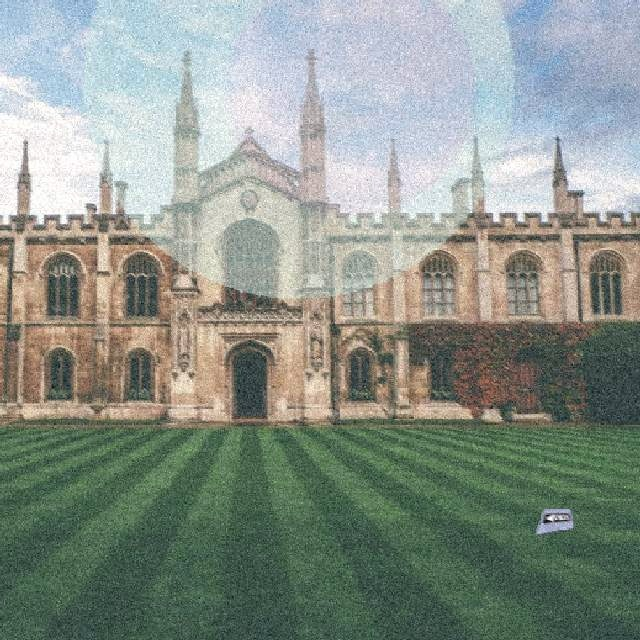ONE_WAY_ left: (541, 511, 569, 523)
